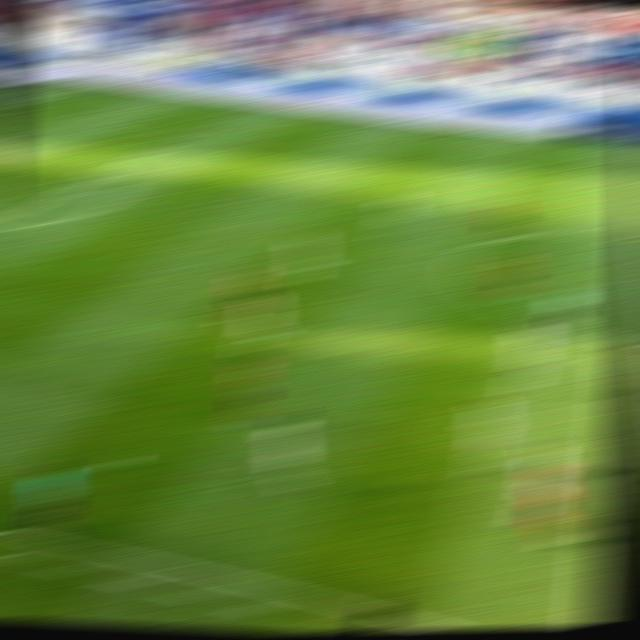bigarea_top_inner: (155, 130, 194, 148)
corner: (55, 82, 97, 96)
halfcircle_bottom: (594, 324, 639, 357)
halfcircle_top: (608, 223, 640, 246)
midline_top_intersection: (622, 149, 640, 166)
top_arc_area_intersection: (83, 160, 131, 185)
